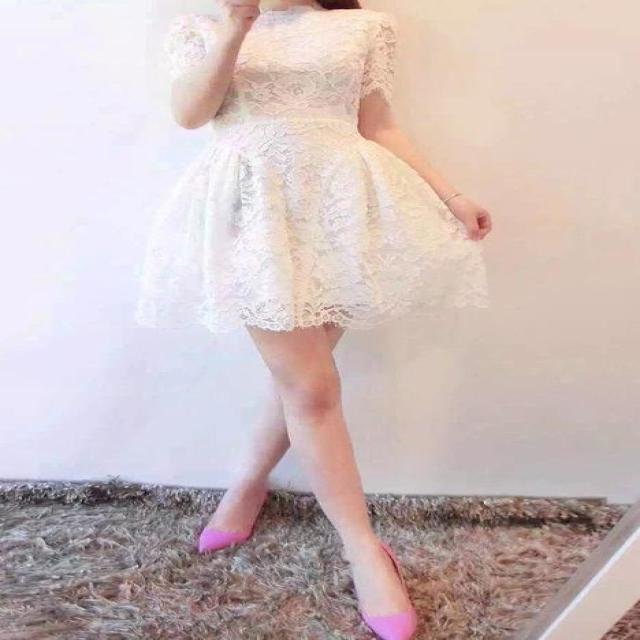short sleeve dress: (135, 2, 491, 327)
